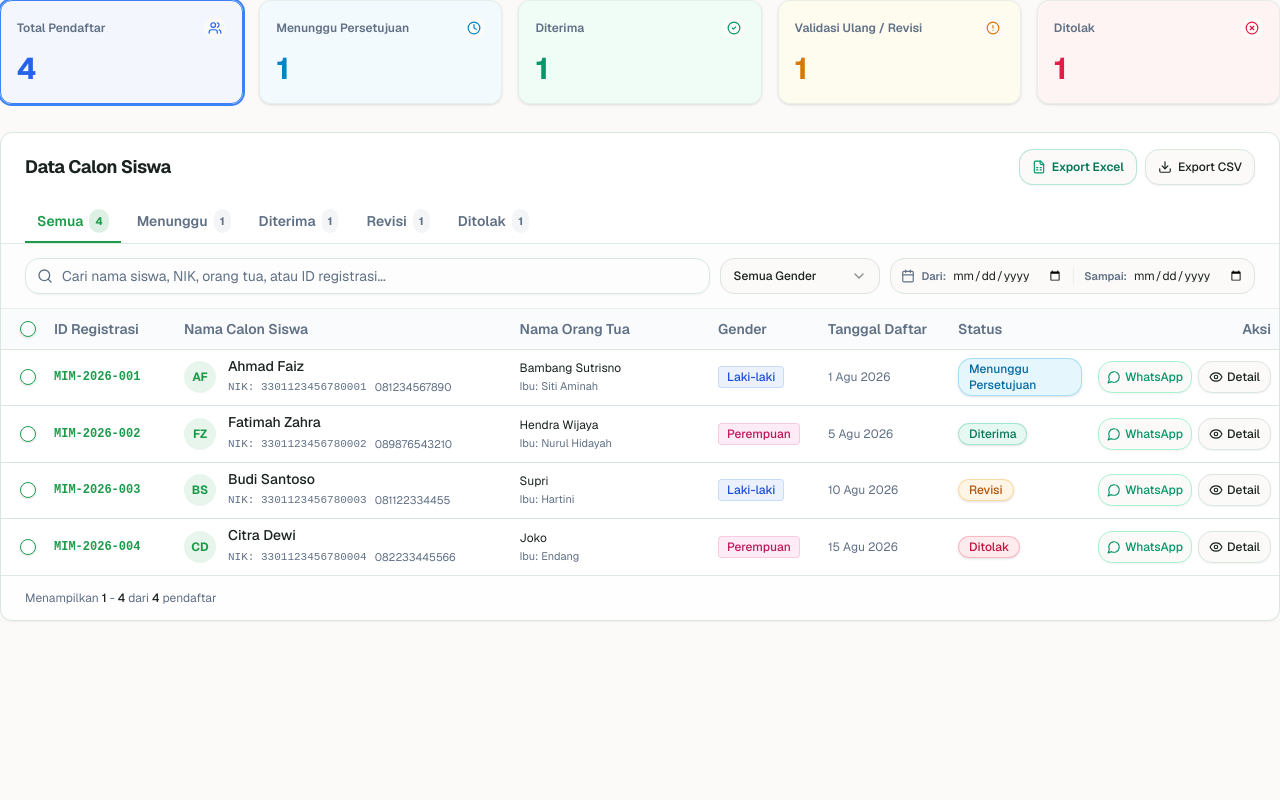
it: Admin PendaftarTable Component › filters data by date range
Type "2026-08-04" into the date field named "Tanggal Mulai" at x=1008, y=276, box x1=952 y1=267 x2=1063 y2=285
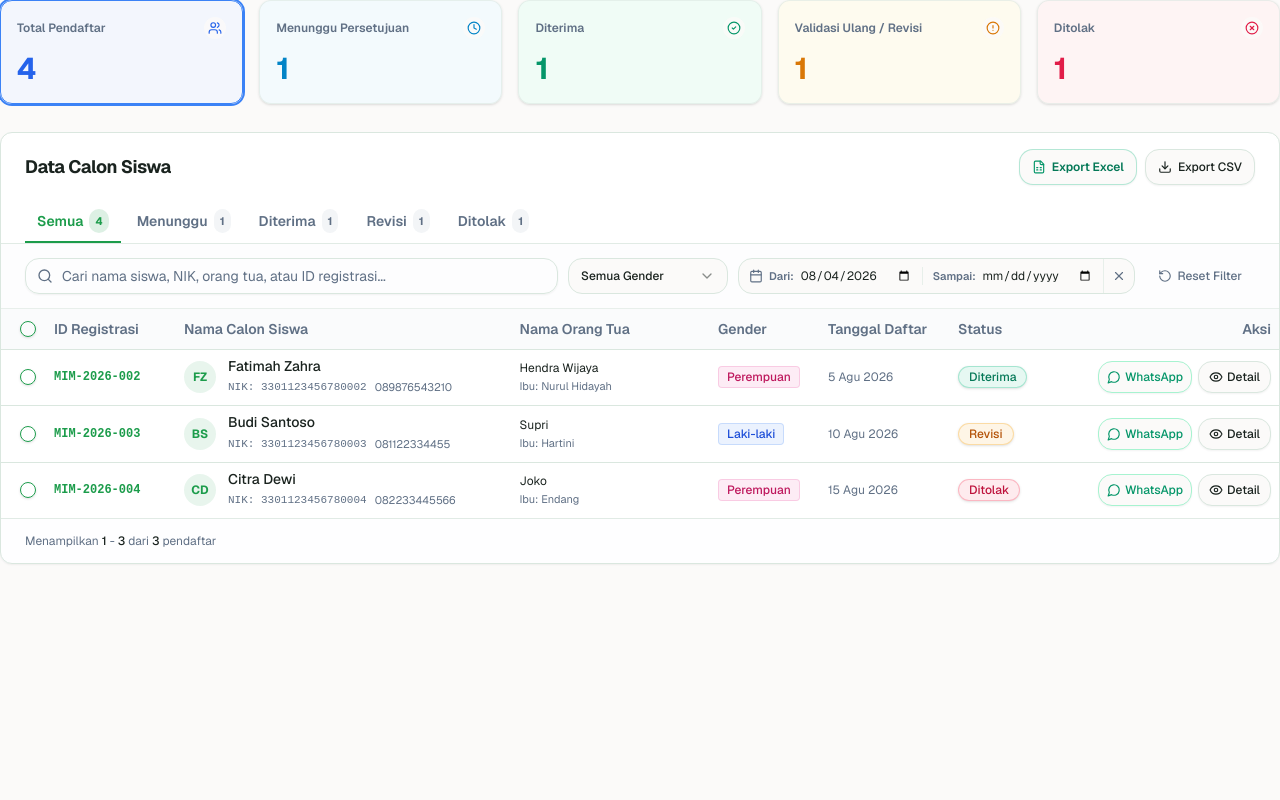
Type "2026-08-06" into the date field named "Tanggal Selesai" at x=1037, y=276, box x1=982 y1=267 x2=1092 y2=285
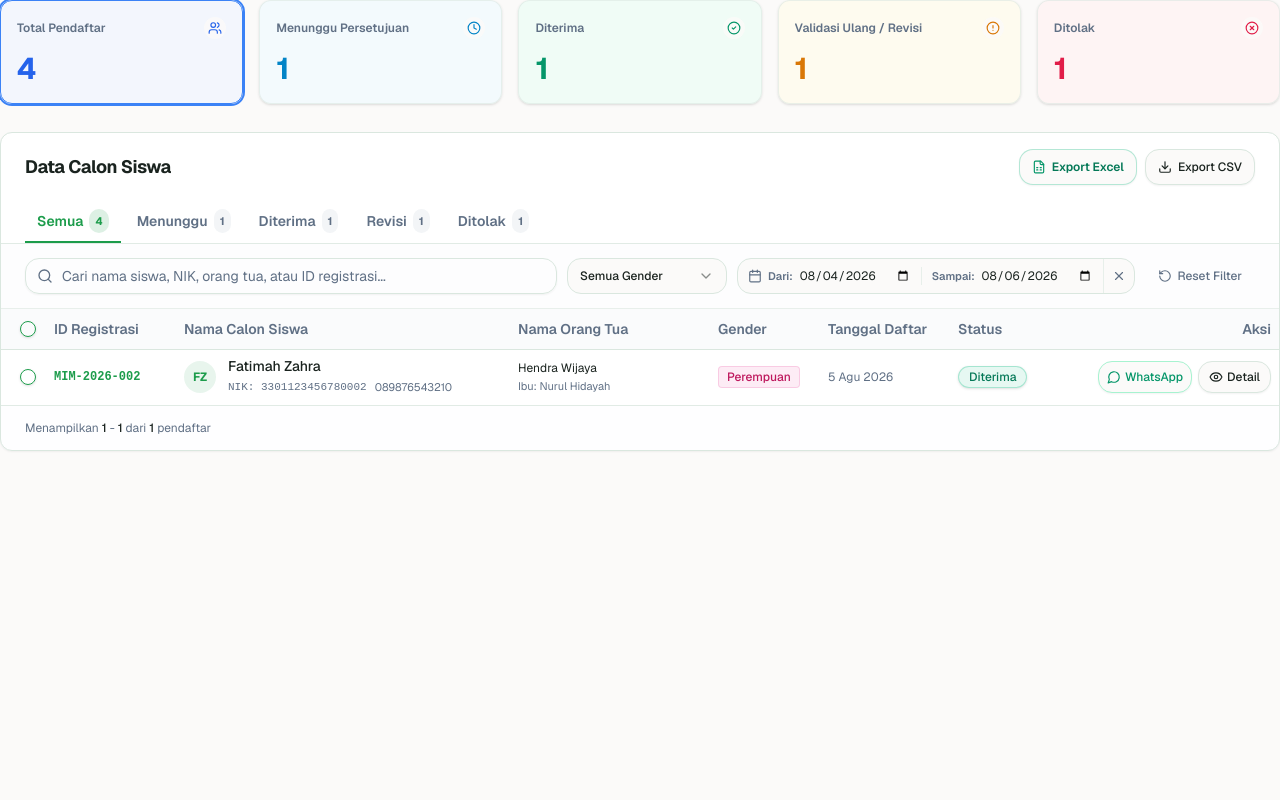
Expected: the text "Ahmad Faiz" is not shown
Expected: the text "Citra Dewi" is gone
